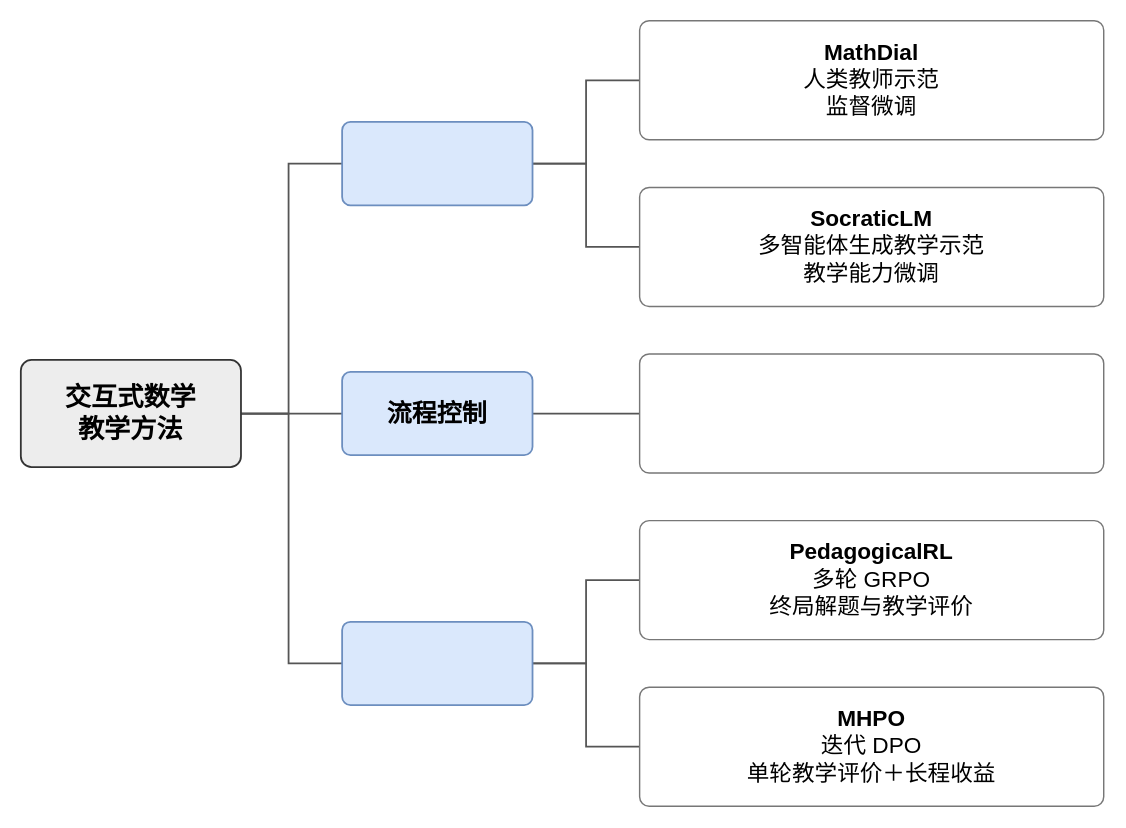
The diagram is 1126 pixels wide and 828 high, and some of its shapes have lost their labels. Each missing label, with the centre of its shape:
"StratL 识别学生状态 控制教学意图与提示" belongs at point 871,413.
"交互反馈优化" belongs at point 437,662.
"示范学习" belongs at point 437,163.
